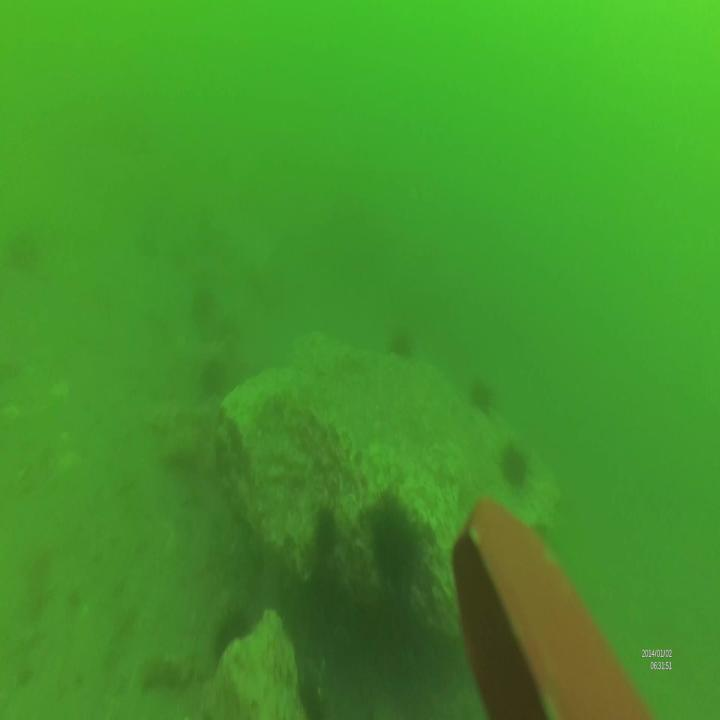echinus: (365, 490, 431, 599), (497, 431, 536, 489), (214, 608, 254, 659), (312, 510, 342, 554), (466, 375, 491, 419), (386, 330, 419, 362)
